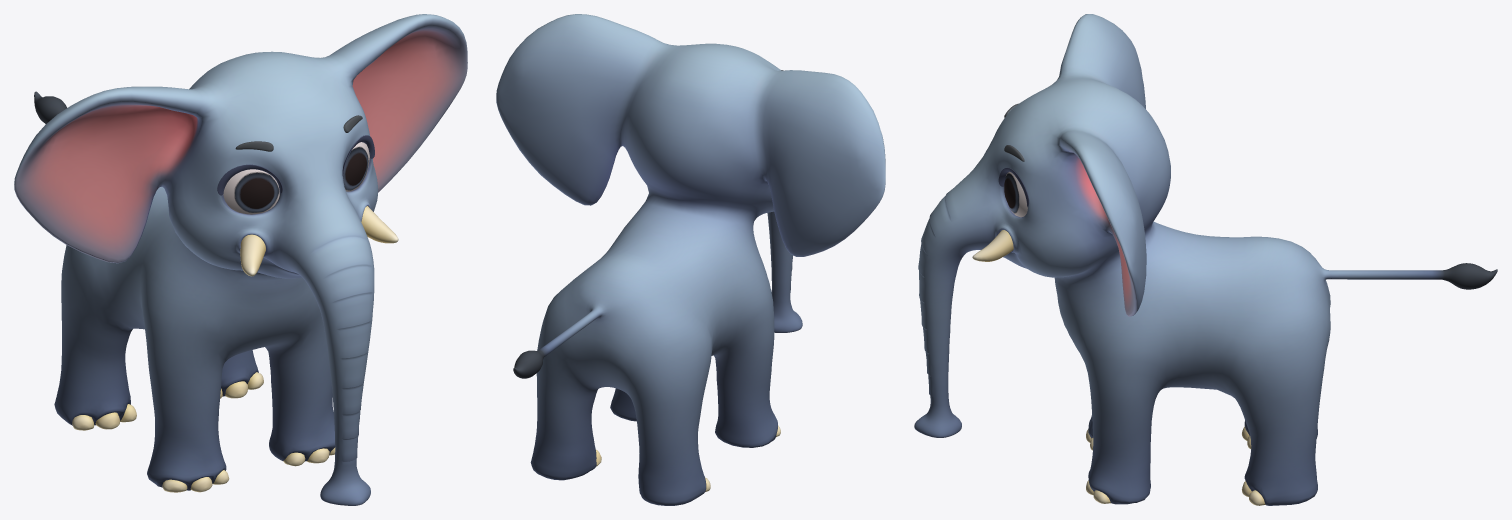
File: asset-cartoons-animal-elephant-rigged.fbx
3 views of the same model, side by side, from view 1: azimuth 30°, elevation 25°; view 2: azimuth 150°, elevation 25°; view 3: azimuth 270°, elevation 25° (orthographic). The views are drawn at different scales.
Visible parts, largest first — view 1: Ep48_Elephant_Body_Elephant_mt_0, Ep48_Elephant_Eyeball_R_Elephant_Eyes_mt_0, Ep48_Elephant_Eyeball_L_Elephant_Eyes_mt_0, Ep48_Elephant_Eyeslash_R_Elephant_mt_0; view 2: Ep48_Elephant_Body_Elephant_mt_0; view 3: Ep48_Elephant_Body_Elephant_mt_0, Ep48_Elephant_Eyeball_L_Elephant_Eyes_mt_0.
Boxes of the visible parts, x1,y1,x2,y2 form: Ep48_Elephant_Body_Elephant_mt_0: [14, 14, 467, 505]; Ep48_Elephant_Eyeball_R_Elephant_Eyes_mt_0: [223, 169, 279, 214]; Ep48_Elephant_Eyeball_L_Elephant_Eyes_mt_0: [343, 142, 369, 191]; Ep48_Elephant_Eyeslash_R_Elephant_mt_0: [217, 164, 282, 195]; Ep48_Elephant_Body_Elephant_mt_0: [496, 14, 885, 505]; Ep48_Elephant_Body_Elephant_mt_0: [914, 14, 1497, 505]; Ep48_Elephant_Eyeball_L_Elephant_Eyes_mt_0: [1004, 171, 1027, 217].
Bounding box in the file's own units: 226 × 204 × 280.
